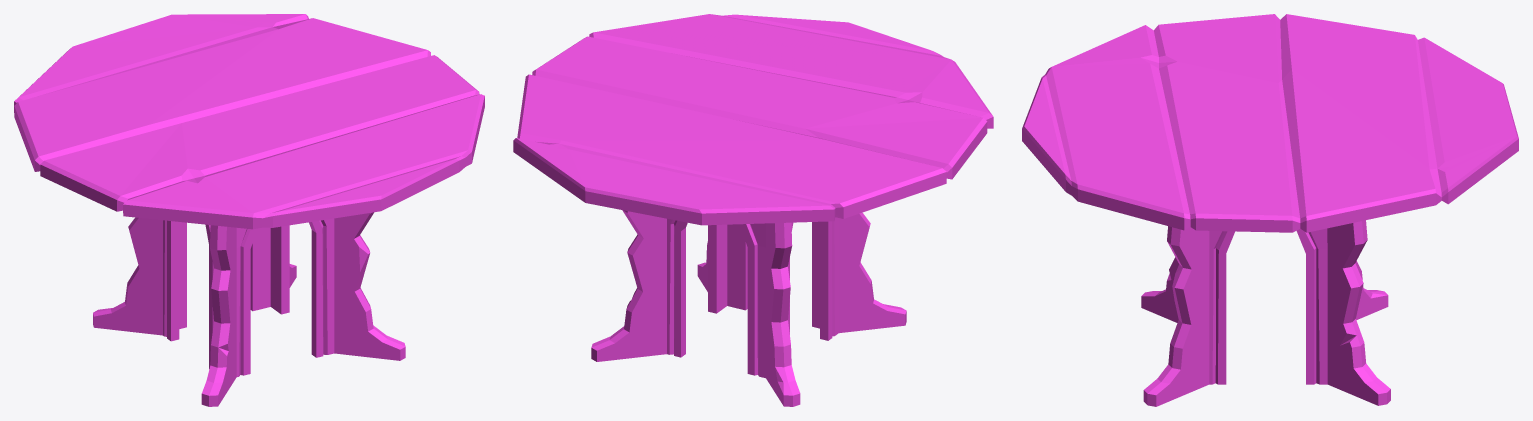
File: SM_Table_Fancy_Round_A_Fantasy.fbx
3 renders of one model, left to right at view 1: azimuth 30°, elevation 25°; view 2: azimuth 150°, elevation 25°; view 3: azimuth 270°, elevation 25°, orthographic. The views are drawn at different scales.
Parts seen in each view (by area): view 1: SM_Table_Fancy_Round_A_Fantasy; view 2: SM_Table_Fancy_Round_A_Fantasy; view 3: SM_Table_Fancy_Round_A_Fantasy.
Part boxes in pixels (x1=…): SM_Table_Fancy_Round_A_Fantasy: x1=14, y1=14, x2=484, y2=406; SM_Table_Fancy_Round_A_Fantasy: x1=513, y1=14, x2=993, y2=406; SM_Table_Fancy_Round_A_Fantasy: x1=1022, y1=14, x2=1518, y2=406.
Bounding box in the file's own units: 1.49 × 0.8 × 1.5.
